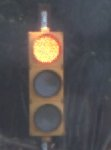Red: (21, 24, 70, 137)
